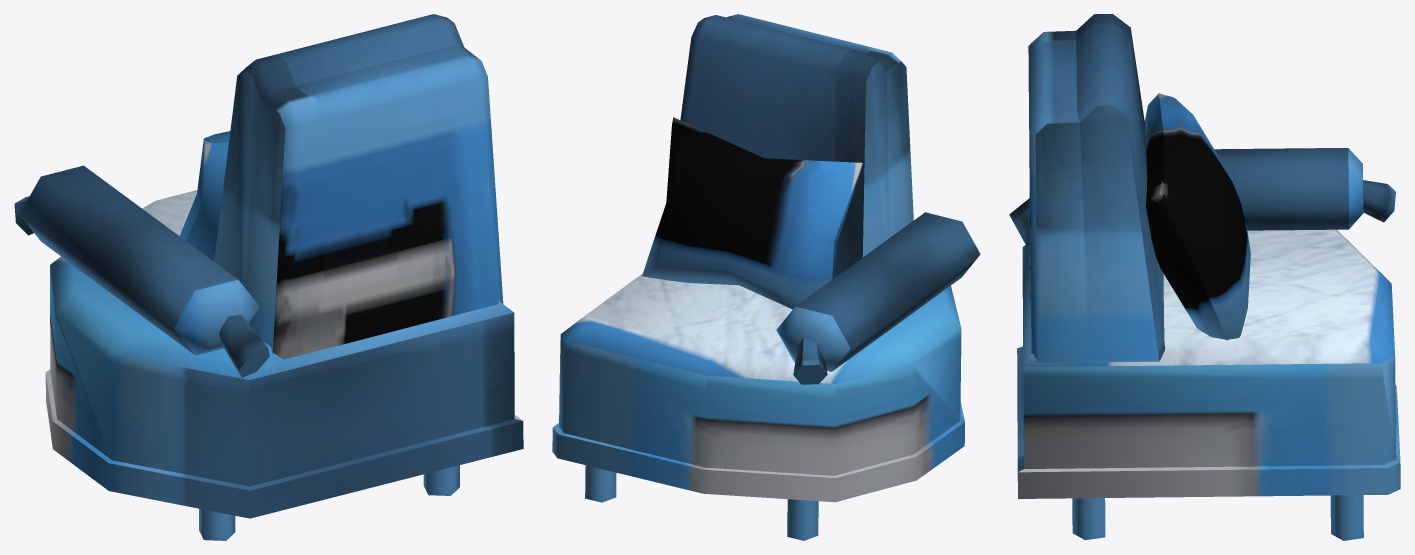
Rendered from furni_0200511.FBX.
3 views of the same model, side by side, from view 1: azimuth 30°, elevation 25°; view 2: azimuth 150°, elevation 25°; view 3: azimuth 270°, elevation 25° (orthographic). The views are drawn at different scales.
Parts seen in each view (by area): view 1: furni_0200511; view 2: furni_0200511; view 3: furni_0200511.
Part boxes in pixels (x1,y1,x2,y2): furni_0200511: [14, 14, 523, 540]; furni_0200511: [552, 14, 980, 540]; furni_0200511: [1009, 14, 1400, 540].
Bounding box in the file's own units: 78.04 × 98.97 × 79.36.
Materials: 1 (1 with a texture image).
